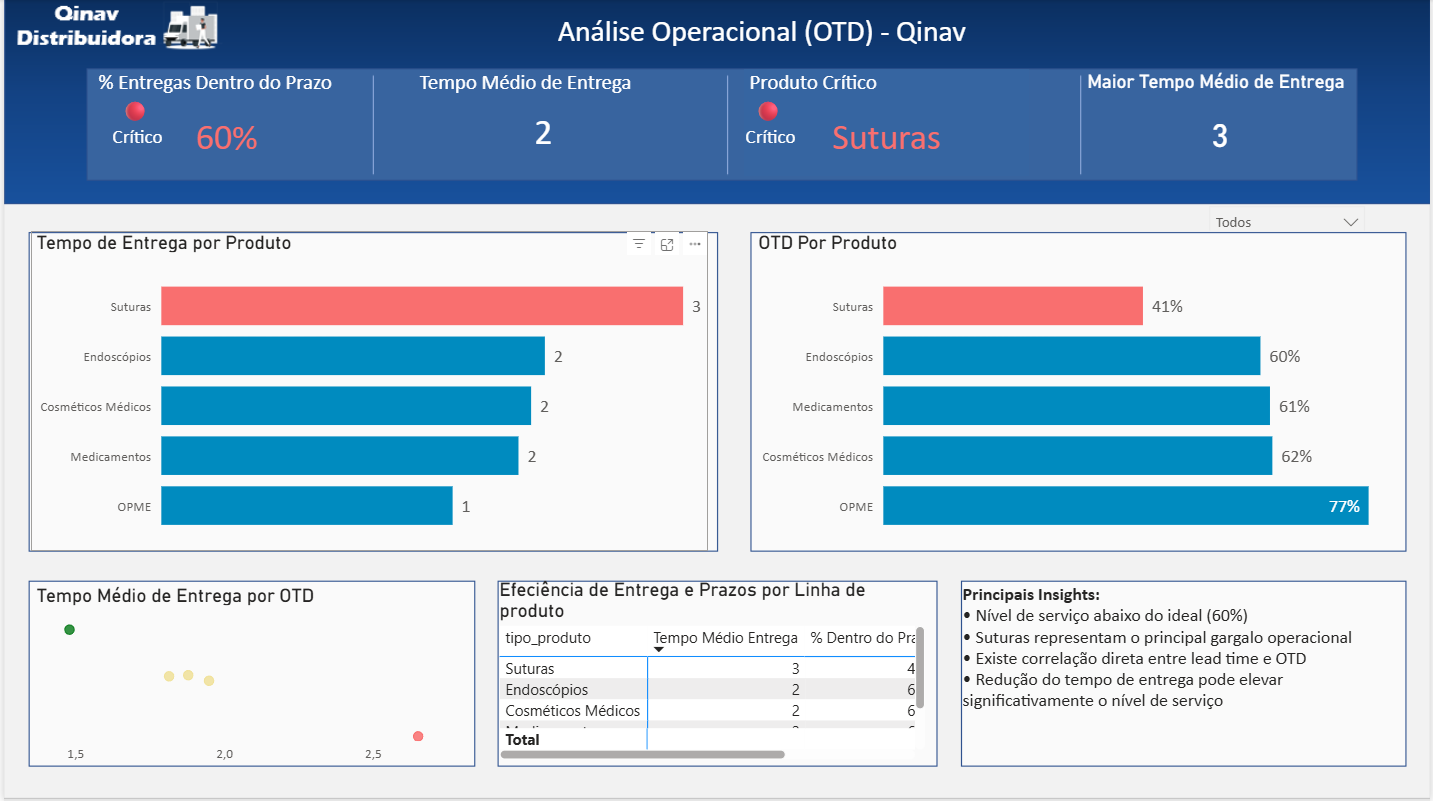

The dashboard page shown, as its layout file describes it:
{"tool":"powerbi","page":{"name":"ANÁLISE OPERACIONAL - OTD","canvas":[1280,720],"ordinal":2},"visuals":[{"type":"group","id":"g1","title":"Grupo 1","box":[80,62.7,240,96],"z":0},{"type":"card","title":"% Entregas Dentro do Prazo","fields":{"Values":["Medidas.% Dentro do Prazo"]},"box":[80,62.7,240,96],"z":500,"group":"g10"},{"type":"card","title":"Tempo Médio de Entrega","fields":{"Values":["Medidas.Tempo Médio de Entrega"]},"box":[368,62.7,232,88],"z":500,"group":"g15"},{"type":"card","title":"Produto Crítico","fields":{"Values":["Medidas.Produto Crítico"]},"box":[664,62.7,256,96],"z":500,"group":"g19"},{"type":"textbox","box":[296,8,768,48],"z":1000},{"type":"card","fields":{"Values":["Medidas.Status OTD"]},"box":[80,78.7,80,64],"z":1500,"group":"g10"},{"type":"group","id":"g2","title":"Grupo 1","box":[368,62.7,232,88],"z":2000},{"type":"group","id":"g3","title":"Grupo 2","box":[664,62.7,256,96],"z":3000,"group":"g5"},{"type":"barChart","title":" Tempo de Entrega por Produto","fields":{"Category":["14-Analise-OTD-Distrubuidora.tipo_produto"],"Y":["Medidas.Tempo Médio de Entrega"]},"box":[24,208,608,288],"z":3000},{"type":"card","fields":{"Values":["Medidas.Status OTD"]},"box":[648,78.7,80,64],"z":3500,"group":"g5"},{"type":"barChart","title":"OTD Por Produto","fields":{"Category":["14-Analise-OTD-Distrubuidora.tipo_produto"],"Y":["Medidas.% Dentro do Prazo"]},"box":[672,208,592,288],"z":4000},{"type":"pivotTable","title":"Efeciência de Entrega e Prazos por Linha de produto","fields":{"Rows":["14-Analise-OTD-Distrubuidora.tipo_produto"],"Values":["Medidas.Tempo Médio Entrega - Sem o Total","Medidas.% Dentro do Prazo - Sem Total","Medidas.Rotatividade - Sem o Total"]},"box":[440,520,392,168],"z":5000},{"type":"slicer","fields":{"Values":["14-Analise-OTD-Distrubuidora.data.Variation.Hierarquia de datas.Ano"]},"box":[1072,176,160,32],"z":6000},{"type":"textbox","box":[856,520,400,168],"z":7000},{"type":"scatterChart","title":"Tempo Médio de Entrega por OTD","fields":{"Category":["14-Analise-OTD-Distrubuidora.tipo_produto"],"Y":["Medidas.% Dentro do Prazo"],"X":["Medidas.Tempo Médio de Entrega"]},"box":[24,525.3,400,168],"z":8000},{"type":"group","id":"g4","title":"Grupo 8","box":[648,62.7,272,96],"z":9000},{"type":"group","id":"g5","title":"Grupo 9","box":[648,62.7,272,96],"z":9002,"group":"g4"},{"type":"card","title":"Maior Tempo Médio de Entrega ","fields":{"Values":["Medidas.Maior Tempo Médio de Entrega"]},"box":[968,64,248,96],"z":10000},{"type":"group","id":"g6","title":"Grupo 2","box":[80,62.7,240,96],"z":11001,"group":"g1"},{"type":"group","id":"g7","title":"Grupo 3","box":[80,62.7,240,96],"z":11001,"group":"g6"},{"type":"group","id":"g8","title":"Grupo 4","box":[80,62.7,240,96],"z":11001,"group":"g7"},{"type":"group","id":"g9","title":"Grupo 5","box":[80,62.7,240,96],"z":11001,"group":"g8"},{"type":"group","id":"g10","title":"Grupo 6","box":[80,62.7,240,96],"z":11001,"group":"g9"},{"type":"group","id":"g11","title":"Grupo 2","box":[368,62.7,232,88],"z":11001,"group":"g2"},{"type":"group","id":"g12","title":"Grupo 3","box":[368,62.7,232,88],"z":11001,"group":"g11"},{"type":"group","id":"g13","title":"Grupo 4","box":[368,62.7,232,88],"z":11001,"group":"g12"},{"type":"group","id":"g14","title":"Grupo 5","box":[368,62.7,232,88],"z":11001,"group":"g13"},{"type":"group","id":"g15","title":"Grupo 6","box":[368,62.7,232,88],"z":11001,"group":"g14"},{"type":"group","id":"g16","title":"Grupo 3","box":[664,62.7,256,96],"z":11001,"group":"g3"},{"type":"group","id":"g17","title":"Grupo 4","box":[664,62.7,256,96],"z":11001,"group":"g16"},{"type":"group","id":"g18","title":"Grupo 5","box":[664,62.7,256,96],"z":11001,"group":"g17"},{"type":"group","id":"g19","title":"Grupo 6","box":[664,62.7,256,96],"z":11001,"group":"g18"}]}

Visuals, with their boxes in screenshot pixels (x1, y1, x2, y2), scaled from the page's 1280x720 canvas onto the 1433x801 screenshot:
"Grupo 1" group: region(90, 70, 358, 177)
"% Entregas Dentro do Prazo" card: region(90, 70, 358, 177)
"Tempo Médio de Entrega" card: region(412, 70, 672, 168)
"Produto Crítico" card: region(743, 70, 1030, 177)
textbox: region(331, 9, 1191, 62)
card - Medidas.Status OTD: region(90, 88, 179, 159)
"Grupo 1" group: region(412, 70, 672, 168)
"Grupo 2" group: region(743, 70, 1030, 177)
" Tempo de Entrega por Produto" barChart: region(27, 231, 708, 552)
card - Medidas.Status OTD: region(725, 88, 815, 159)
"OTD Por Produto" barChart: region(752, 231, 1415, 552)
"Efeciência de Entrega e Prazos por Linha de produto" pivotTable: region(493, 578, 931, 765)
slicer - 14-Analise-OTD-Distrubuidora.data.Variation.Hierarquia de datas.Ano: region(1200, 196, 1379, 231)
textbox: region(958, 578, 1406, 765)
"Tempo Médio de Entrega por OTD" scatterChart: region(27, 584, 475, 771)
"Grupo 8" group: region(725, 70, 1030, 177)
"Grupo 9" group: region(725, 70, 1030, 177)
"Maior Tempo Médio de Entrega " card: region(1084, 71, 1361, 178)
"Grupo 2" group: region(90, 70, 358, 177)
"Grupo 3" group: region(90, 70, 358, 177)
"Grupo 4" group: region(90, 70, 358, 177)
"Grupo 5" group: region(90, 70, 358, 177)
"Grupo 6" group: region(90, 70, 358, 177)
"Grupo 2" group: region(412, 70, 672, 168)
"Grupo 3" group: region(412, 70, 672, 168)
"Grupo 4" group: region(412, 70, 672, 168)
"Grupo 5" group: region(412, 70, 672, 168)
"Grupo 6" group: region(412, 70, 672, 168)
"Grupo 3" group: region(743, 70, 1030, 177)
"Grupo 4" group: region(743, 70, 1030, 177)
"Grupo 5" group: region(743, 70, 1030, 177)
"Grupo 6" group: region(743, 70, 1030, 177)
